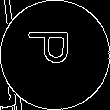P_E: (29, 36, 81, 74)
